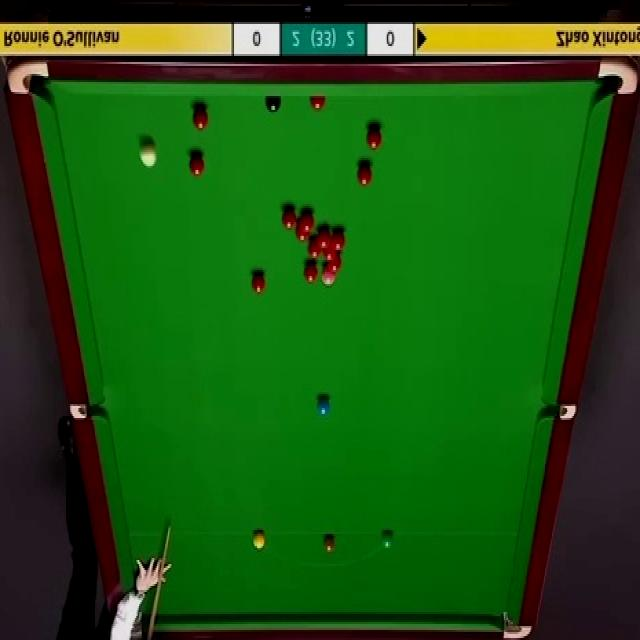black-ball: (265, 94, 281, 114)
blue-ball: (316, 394, 329, 416)
brown-ball: (324, 532, 335, 551)
green-ball: (381, 530, 396, 550)
pink-ball: (321, 271, 336, 288)
red-ball: (192, 104, 210, 132), (366, 126, 383, 152), (280, 206, 297, 231), (357, 160, 372, 186), (299, 209, 315, 233), (189, 153, 204, 178), (316, 227, 332, 250), (250, 272, 266, 294), (309, 95, 326, 114), (304, 263, 318, 284), (308, 238, 321, 260), (331, 230, 346, 249), (326, 256, 342, 272), (294, 228, 310, 242), (322, 249, 337, 261)
white-ball: (140, 140, 158, 173)
yellow-ball: (252, 532, 266, 551)
